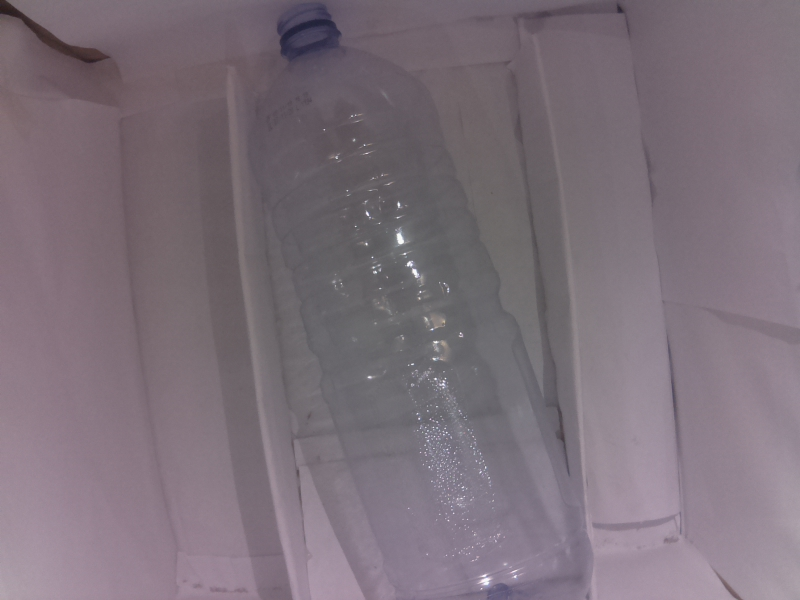botolplastik: (248, 5, 596, 600)
